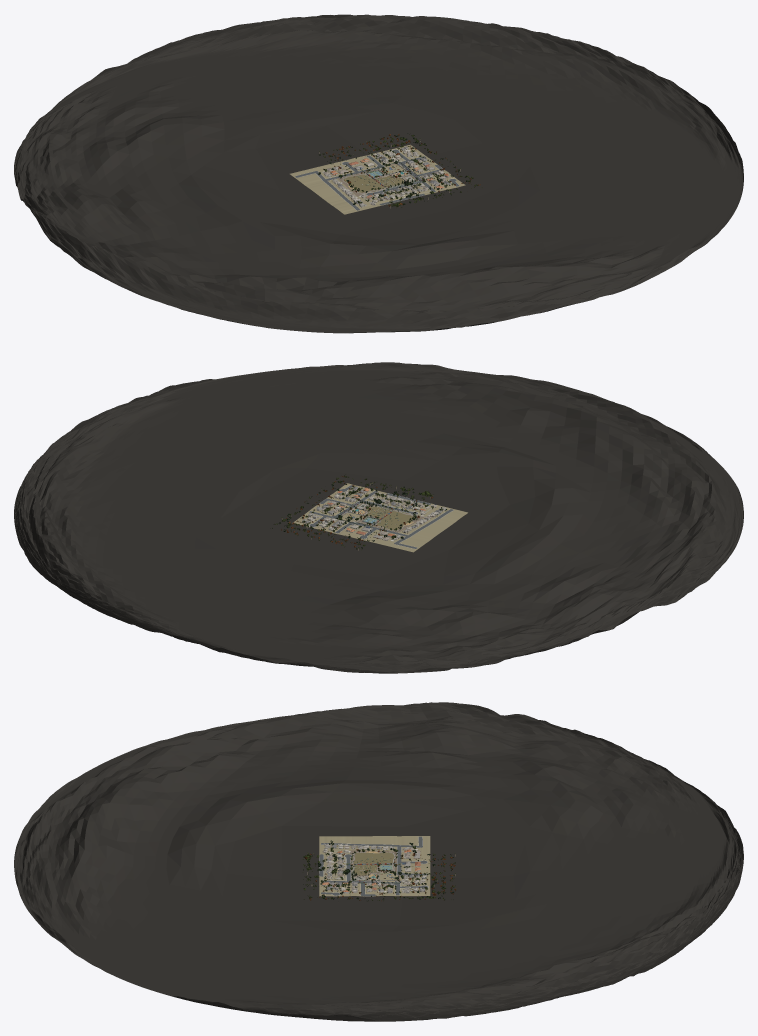
Rendered from sunrise_map.glb.
The picture shows the model from 3 angles, top to bottom: view 1: azimuth 30°, elevation 25°; view 2: azimuth 150°, elevation 25°; view 3: azimuth 270°, elevation 25°; orthographic projection.
Parts seen in each view (by area): view 1: HORIZON hills, TILE_0_0, TILE_-1_-1; view 2: HORIZON hills, TILE_0_0, TILE_-1_-1; view 3: HORIZON hills, TILE_0_0, TILE_-1_-1.
Boxes of the visible parts, x1,y1,x2,y2 form: HORIZON hills: [14, 14, 743, 333]; TILE_0_0: [290, 144, 465, 214]; TILE_-1_-1: [343, 174, 403, 192]; HORIZON hills: [14, 362, 743, 673]; TILE_0_0: [292, 483, 467, 552]; TILE_-1_-1: [366, 506, 414, 529]; HORIZON hills: [14, 702, 743, 1021]; TILE_0_0: [319, 836, 430, 896]; TILE_-1_-1: [353, 852, 394, 875].
Bounding box in the file's own units: 2179 × 81.95 × 2172.
183 materials, 5 textured.
